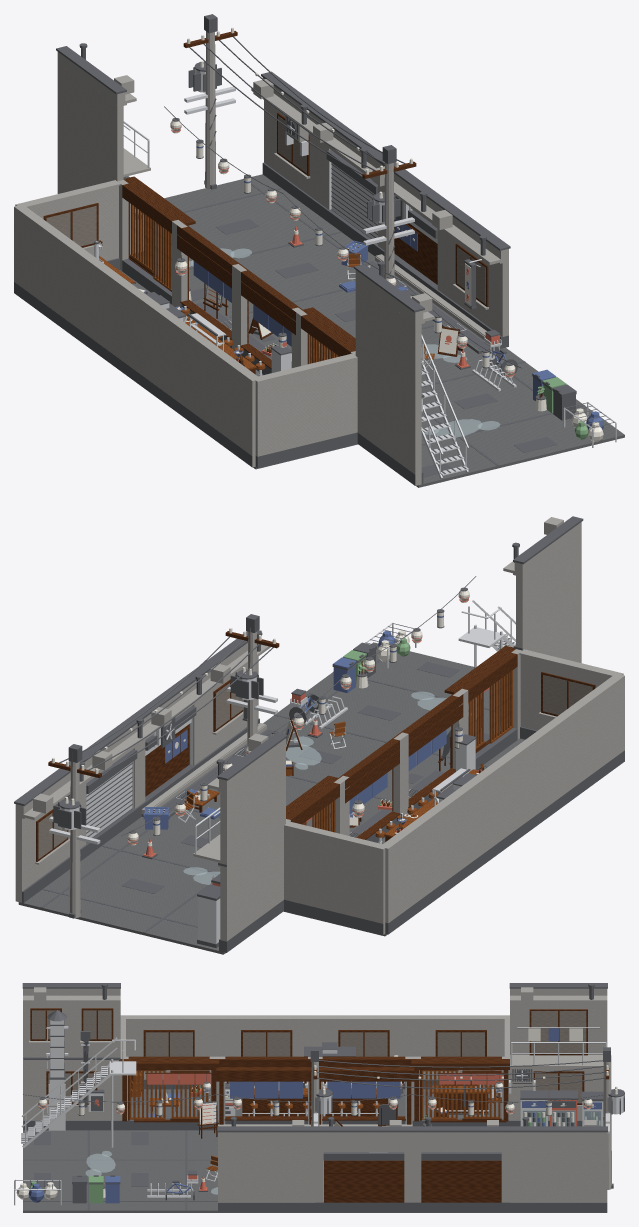
The model's file is izakaya_alley_at_opening_time.glb.
3 renders of one model, top to bottom at view 1: azimuth 30°, elevation 25°; view 2: azimuth 150°, elevation 25°; view 3: azimuth 270°, elevation 25°, orthographic. The views are drawn at different scales.
Visible parts, largest first — view 1: 035-alley-wall-bay/alley-wall-bay-concrete, 036-upper-storey-balcony-bay/upper-storey-balcony-bay-concre, 033-alley-wall-bay/alley-wall-bay-concrete, 031-alley-wall-bay/alley-wall-bay-concrete, 038-upper-storey-bay/upper-storey-bay-concrete, 030-alley-wall-bay/alley-wall-bay-concrete, 032-alley-wall-bay/alley-wall-bay-concrete, 025-alley-wall-bay/alley-wall-bay-concrete, 006-alley-floor-slab/alley-floor-slab-asphalt, 007-alley-floor-slab/alley-floor-slab-asphalt, 011-alley-floor-slab/alley-floor-slab-asphalt, 010-alley-floor-slab/alley-floor-slab-asphalt (+55 smaller); view 2: 034-alley-wall-bay/alley-wall-bay-concrete, 036-upper-storey-balcony-bay/upper-storey-balcony-bay-concre, 030-alley-wall-bay/alley-wall-bay-concrete, 032-alley-wall-bay/alley-wall-bay-concrete, 031-alley-wall-bay/alley-wall-bay-concrete, 006-alley-floor-slab/alley-floor-slab-asphalt, 038-upper-storey-bay/upper-storey-bay-concrete, 033-alley-wall-bay/alley-wall-bay-concrete, 020-alley-wall-bay/alley-wall-bay-concrete, 007-alley-floor-slab/alley-floor-slab-asphalt, 010-alley-floor-slab/alley-floor-slab-asphalt, 011-alley-floor-slab/alley-floor-slab-asphalt (+60 smaller); view 3: 026-alley-wall-bay/alley-wall-bay-concrete, 029-alley-wall-bay/alley-wall-bay-concrete, 036-upper-storey-balcony-bay/upper-storey-balcony-bay-concre, 004-alley-floor-slab/alley-floor-slab-asphalt, 027-shopfront-shutter-bay/shopfront-shutter-bay-darkwood, 028-shopfront-shutter-bay-open/shopfront-shutter-bay-open-da, 010-alley-floor-slab/alley-floor-slab-asphalt, 005-alley-floor-slab/alley-floor-slab-asphalt, 023-ramen-shop-front-bay/ramen-shop-front-bay-darkwood, 038-upper-storey-bay/upper-storey-bay-concrete, 025-alley-wall-bay/alley-wall-bay-concrete, 022-ramen-shop-front-bay/ramen-shop-front-bay-darkwood (+88 smaller).
Boxes of the visible parts, x1,y1,x2,y2 form: 035-alley-wall-bay/alley-wall-bay-concrete: (254,353,357,456); 036-upper-storey-balcony-bay/upper-storey-balcony-bay-concre: (57,62,150,181); 033-alley-wall-bay/alley-wall-bay-concrete: (193,335,259,467); 031-alley-wall-bay/alley-wall-bay-concrete: (73,248,141,368); 038-upper-storey-bay/upper-storey-bay-concrete: (355,280,424,399); 030-alley-wall-bay/alley-wall-bay-concrete: (14,204,81,324); 032-alley-wall-bay/alley-wall-bay-concrete: (133,292,201,412); 025-alley-wall-bay/alley-wall-bay-concrete: (357,358,424,485); 006-alley-floor-slab/alley-floor-slab-asphalt: (164,174,321,241); 007-alley-floor-slab/alley-floor-slab-asphalt: (224,218,374,285); 011-alley-floor-slab/alley-floor-slab-asphalt: (462,399,624,462); 010-alley-floor-slab/alley-floor-slab-asphalt: (421,347,537,416); 034-alley-wall-bay/alley-wall-bay-concrete: (284,821,387,934); 036-upper-storey-balcony-bay/upper-storey-balcony-bay-concre: (193,749,285,866); 030-alley-wall-bay/alley-wall-bay-concrete: (380,803,447,923); 032-alley-wall-bay/alley-wall-bay-concrete: (498,717,565,836); 031-alley-wall-bay/alley-wall-bay-concrete: (439,760,506,879); 006-alley-floor-slab/alley-floor-slab-asphalt: (18,860,179,929); 038-upper-storey-bay/upper-storey-bay-concrete: (513,532,581,649); 033-alley-wall-bay/alley-wall-bay-concrete: (557,673,624,792); 020-alley-wall-bay/alley-wall-bay-concrete: (218,825,283,941); 007-alley-floor-slab/alley-floor-slab-asphalt: (83,817,217,883); 010-alley-floor-slab/alley-floor-slab-asphalt: (263,685,416,753); 011-alley-floor-slab/alley-floor-slab-asphalt: (315,642,474,710); 026-alley-wall-bay/alley-wall-bay-concrete: (510,1141,607,1202); 029-alley-wall-bay/alley-wall-bay-concrete: (218,1141,315,1202); 036-upper-storey-balcony-bay/upper-storey-balcony-bay-concre: (510,1002,607,1067); 004-alley-floor-slab/alley-floor-slab-asphalt: (120,1130,217,1169); 027-shopfront-shutter-bay/shopfront-shutter-bay-darkwood: (421,1160,501,1202); 028-shopfront-shutter-bay-open/shopfront-shutter-bay-open-da: (324,1160,404,1202); 010-alley-floor-slab/alley-floor-slab-asphalt: (120,1169,217,1212); 005-alley-floor-slab/alley-floor-slab-asphalt: (23,1130,120,1169); 023-ramen-shop-front-bay/ramen-shop-front-bay-darkwood: (216,1056,311,1124); 038-upper-storey-bay/upper-storey-bay-concrete: (23,1002,120,1058); 025-alley-wall-bay/alley-wall-bay-concrete: (23,1059,120,1129); 022-ramen-shop-front-bay/ramen-shop-front-bay-darkwood: (319,1056,414,1124).
Bounding box in the file's own units: 12.3 × 6.86 × 25.1.
11 materials, 4 textured.
